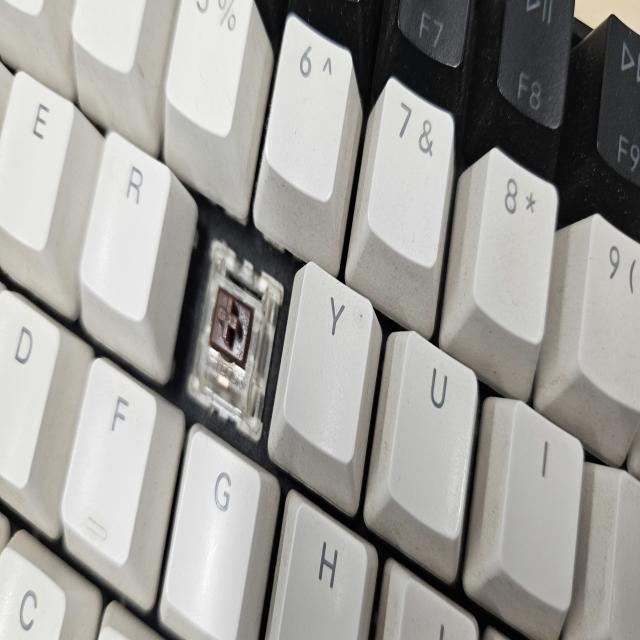C: (191, 245, 266, 380)
